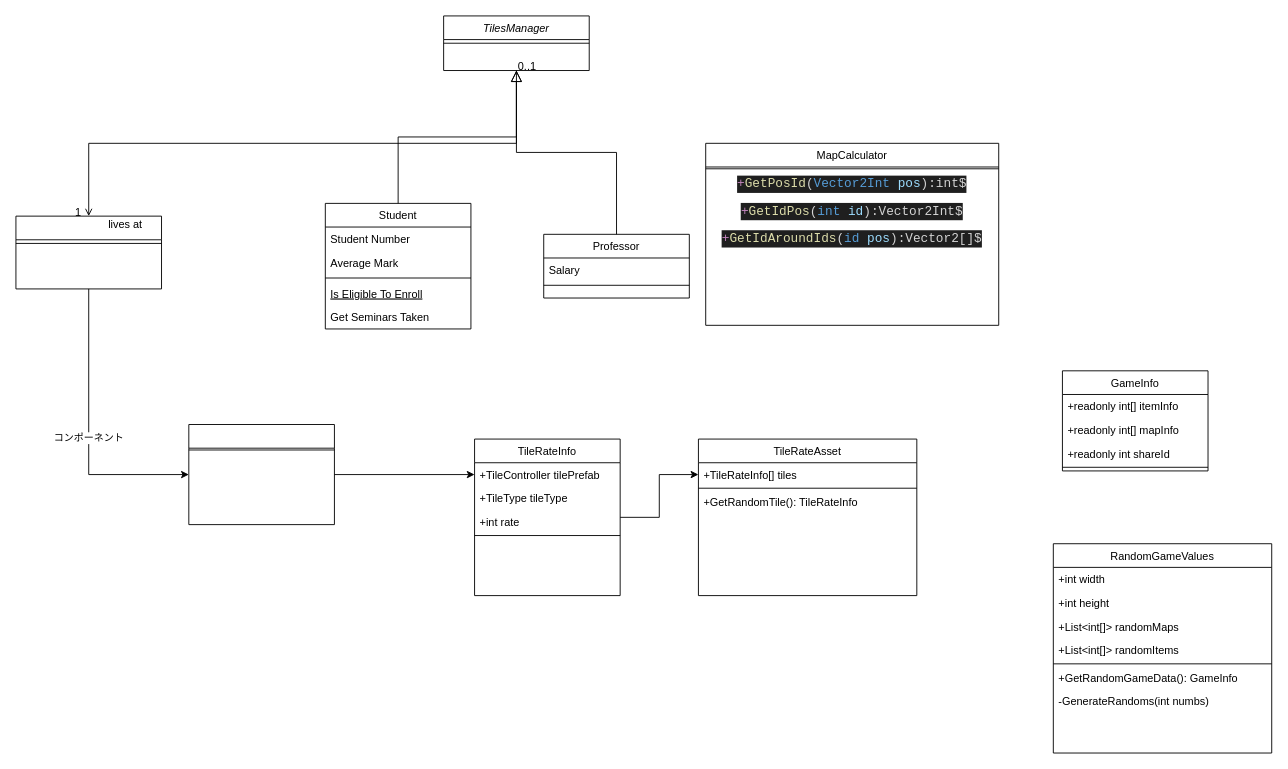
The diagram is 1288 pixels wide and 769 high, and some of its shapes have lost their labels. Each missing label, with the centre of its shape:
"TileController" goes at (88,252).
"TilePrefab" goes at (261,474).
